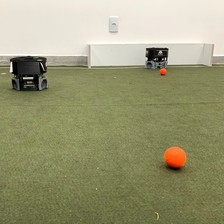ball: (161, 143, 189, 171), (156, 64, 168, 76)
goal: (83, 39, 216, 70)
robot: (7, 53, 51, 92), (142, 43, 171, 69)
